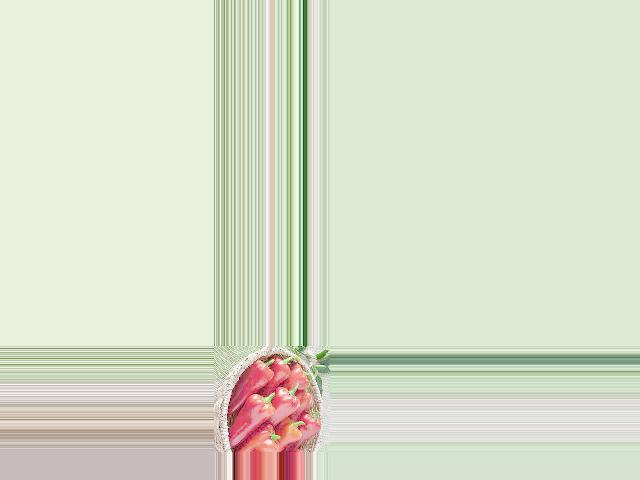bell_pepper: (270, 353, 294, 383)
